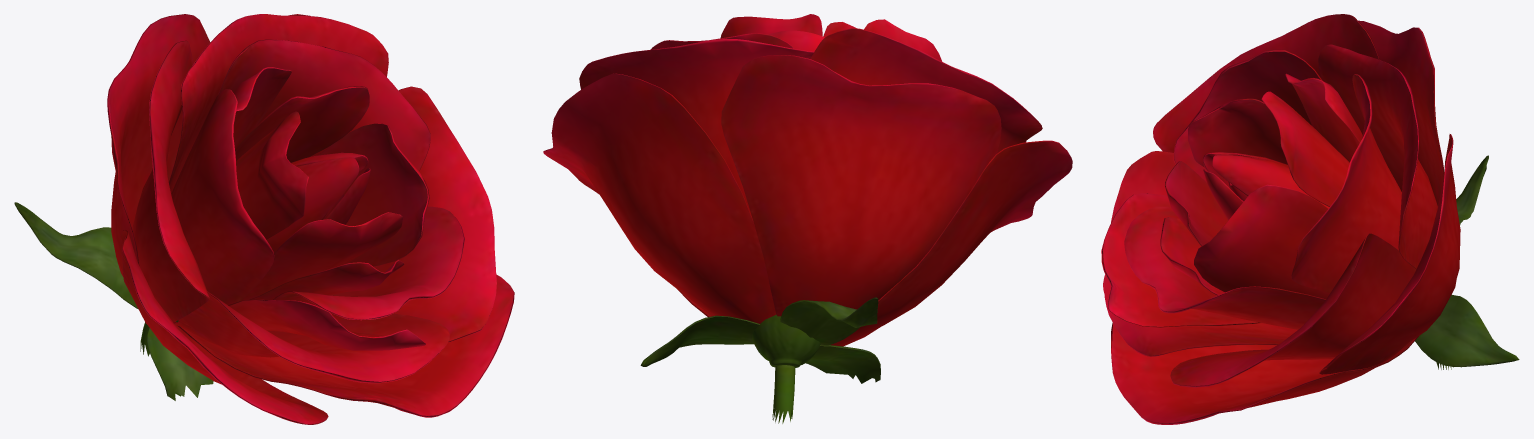
3 views of the same model, side by side, from view 1: azimuth 30°, elevation 25°; view 2: azimuth 150°, elevation 25°; view 3: azimuth 270°, elevation 25° (orthographic). The views are drawn at different scales.
Visible parts, largest first — view 1: 4aad2c8c; view 2: 4aad2c8c; view 3: 4aad2c8c.
Boxes of the visible parts, x1=… form: 4aad2c8c: x1=14, y1=14, x2=514, y2=424; 4aad2c8c: x1=543, y1=14, x2=1072, y2=423; 4aad2c8c: x1=1101, y1=14, x2=1519, y2=424.
Size of the model in its own units: 0.0834 by 0.0673 by 0.0747.
1 material, 1 textured.
